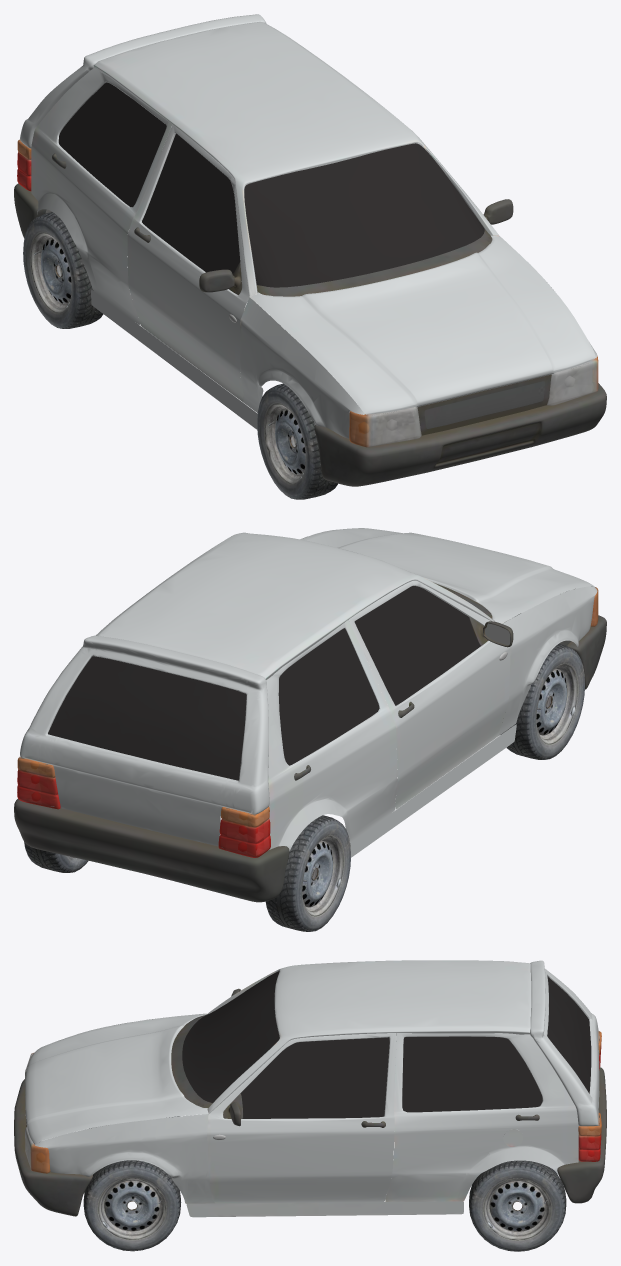
File: fiat-uno-2001.glb
The picture shows the model from 3 angles, top to bottom: view 1: azimuth 30°, elevation 25°; view 2: azimuth 150°, elevation 25°; view 3: azimuth 270°, elevation 25°; orthographic projection. The views are drawn at different scales.
Parts seen in each view (by area): view 1: Plano.022_Material.004_0, Plano.005_Material.006_0, Wheel_Wheel_0, Plano.028_Material.002_0; view 2: Plano.022_Material.004_0, Plano.005_Material.006_0, Wheel_Wheel_0, Plano.028_Material.002_0; view 3: Plano.022_Material.004_0, Plano.005_Material.006_0, Wheel_Wheel_0, Plano.028_Material.002_0.
Boxes of the visible parts, x1,y1,x2,y2 form: Plano.022_Material.004_0: [14, 14, 606, 486]; Plano.005_Material.006_0: [58, 82, 484, 287]; Wheel_Wheel_0: [23, 212, 337, 499]; Plano.028_Material.002_0: [17, 140, 598, 447]; Plano.022_Material.004_0: [14, 528, 606, 902]; Plano.005_Material.006_0: [48, 586, 480, 780]; Wheel_Wheel_0: [24, 644, 584, 931]; Plano.028_Material.002_0: [17, 587, 598, 857]; Plano.022_Material.004_0: [14, 960, 606, 1217]; Plano.005_Material.006_0: [182, 971, 591, 1118]; Wheel_Wheel_0: [83, 1116, 566, 1251]; Plano.028_Material.002_0: [25, 1031, 601, 1173].
Size of the model in its own units: 1.32 by 1.03 by 2.64.
Materials: 4 (3 with a texture image).
